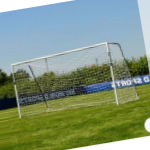goals: (9, 41, 142, 118)
